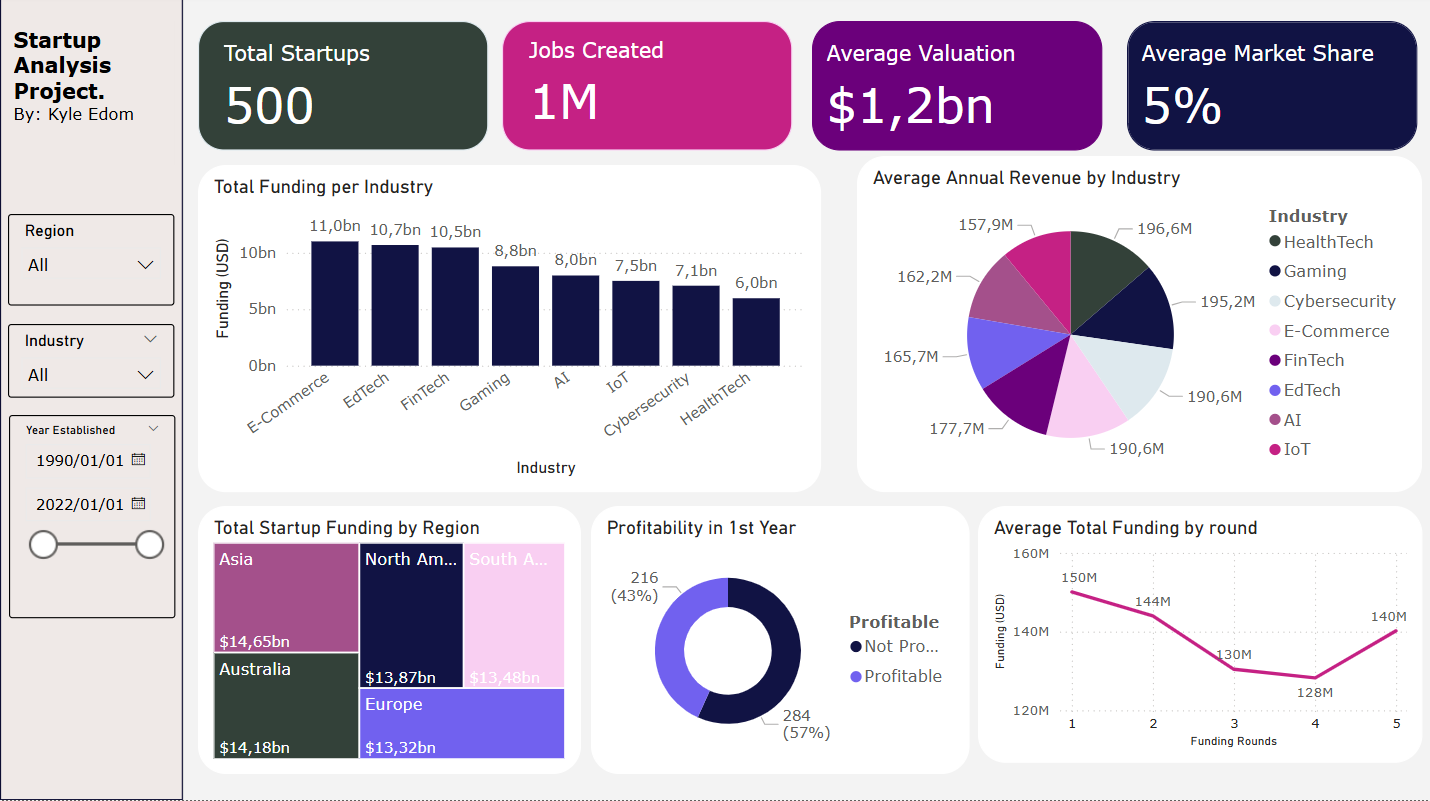

Layout of this report page (visuals, bound fields, positions):
{"tool":"powerbi","page":{"name":"Main_Dashboard","canvas":[1280,720],"ordinal":0},"visuals":[{"type":"shape","box":[0,0,163.8,720.1],"z":0},{"type":"cardVisual","fields":{"Data":["startup_data.Total Startups"]},"box":[177.7,22.1,260.2,116.2],"z":1000},{"type":"cardVisual","fields":{"Data":["startup_data.Jobs Created"]},"box":[449.5,22.1,260.2,116.2],"z":2000},{"type":"cardVisual","fields":{"Data":["startup_data.Average Valuation"]},"box":[727.1,22.1,260,116.2],"z":3000},{"type":"clusteredColumnChart","title":"Total Funding per Industry","fields":{"Category":["startup_data.Industry"],"Y":["Sum(startup_data.Funding amount)"]},"box":[177.7,151,557.5,292.7],"z":4000},{"type":"donutChart","title":"Profitability in 1st Year","fields":{"Category":["startup_data.Profitable"],"Y":["CountNonNull(startup_data.Profitable)"]},"box":[529.7,456.5,339.2,240.4],"z":5000},{"type":"treemap","title":"Total Startup Funding by Region","fields":{"Group":["startup_data.Region"],"Values":["Sum(startup_data.Funding amount)"]},"box":[177.7,456.5,342.6,240.4],"z":6000},{"type":"lineChart","title":"Average Total Funding by round","fields":{"Category":["startup_data.Funding Rounds"],"Y":["Avg(startup_data.Funding amount)"]},"box":[875.8,456.5,398.4,230],"z":7000},{"type":"pieChart","fields":{"Category":["startup_data.Industry"],"Y":["startup_data.Total Revenue"]},"box":[767.5,151.3,506.9,291.9],"z":8000},{"type":"cardVisual","fields":{"Data":["startup_data.Averahe Market Share %"]},"box":[1009.4,22.1,260.2,116.2],"z":9000},{"type":"slicer","fields":{"Values":["startup_data.Region"]},"box":[7,195.1,148.7,82.5],"z":10000},{"type":"slicer","fields":{"Values":["startup_data.Industry"]},"box":[7,293.9,148.7,66.2],"z":11000},{"type":"slicer","fields":{"Values":["startup_data.Year Established"]},"box":[8.1,375.2,148.7,182.4],"z":12000},{"type":"textbox","box":[7,22.1,148.7,128.9],"z":13000}]}

Visuals, with their boxes in screenshot pixels (x1, y1, x2, y2), scaled from the page's 1280x720 canvas onto the 1430x801 screenshot:
shape: 0 0 183 800
cardVisual - startup_data.Total Startups: 199 25 489 154
cardVisual - startup_data.Jobs Created: 502 25 793 154
cardVisual - startup_data.Average Valuation: 812 25 1103 154
"Total Funding per Industry" clusteredColumnChart: 199 168 821 494
"Profitability in 1st Year" donutChart: 592 508 971 775
"Total Startup Funding by Region" treemap: 199 508 581 775
"Average Total Funding by round" lineChart: 978 508 1424 764
pieChart - startup_data.Industry x startup_data.Total Revenue: 857 168 1424 493
cardVisual - startup_data.Averahe Market Share %: 1128 25 1418 154
slicer - startup_data.Region: 8 217 174 309
slicer - startup_data.Industry: 8 327 174 401
slicer - startup_data.Year Established: 9 417 175 620
textbox: 8 25 174 168
